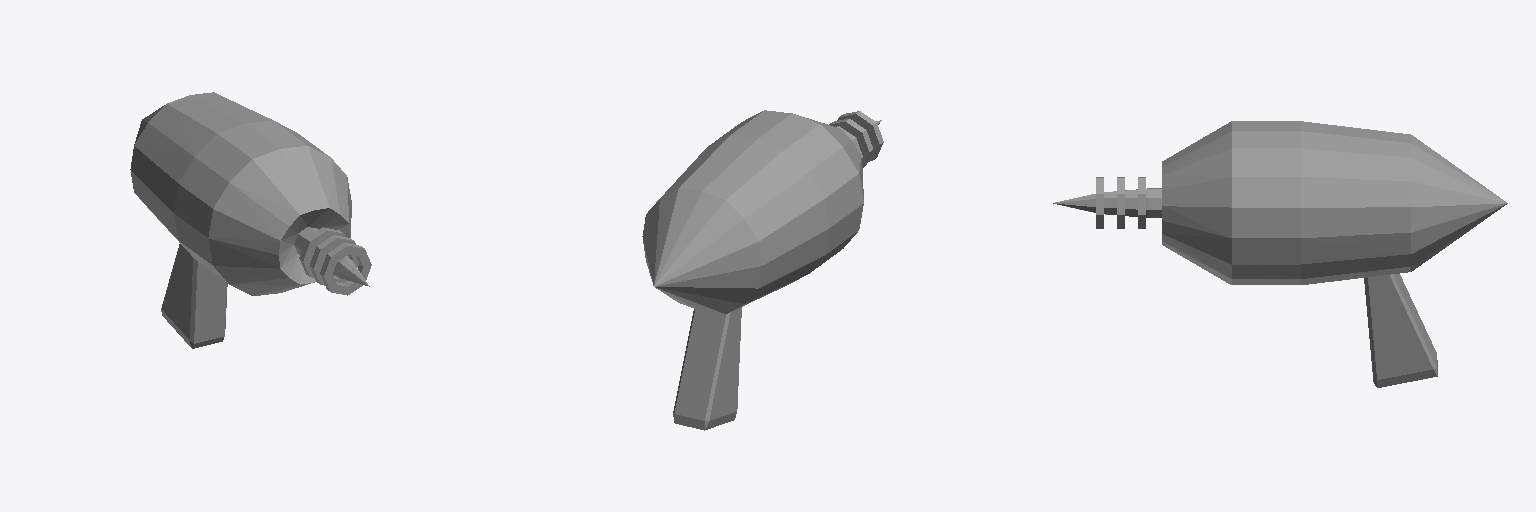
The model's file is basicLaserGun.obj.
The picture shows the model from 3 angles: view 1: azimuth 30°, elevation 25°; view 2: azimuth 150°, elevation 25°; view 3: azimuth 270°, elevation 25°; orthographic projection.
Visible parts, largest first — view 1: Cube_Cube; view 2: Cube_Cube; view 3: Cube_Cube.
Boxes of the visible parts, box(x1,y1,x2,y2) form: Cube_Cube: box(130, 92, 371, 348); Cube_Cube: box(642, 110, 883, 430); Cube_Cube: box(1053, 121, 1507, 387).
Bounding box in the file's own units: 1.2 × 1.99 × 3.3.